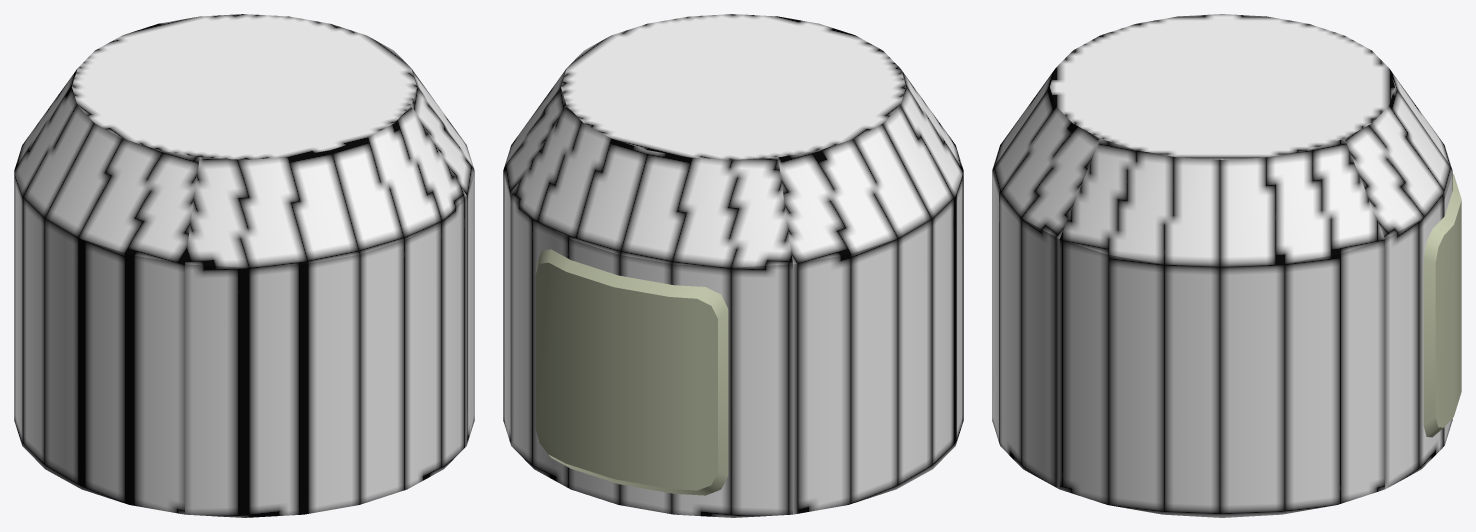
The model's file is vega_crew_s1_2_1_interior.obj.
The picture shows the model from 3 angles, left to right: view 1: azimuth 30°, elevation 25°; view 2: azimuth 150°, elevation 25°; view 3: azimuth 270°, elevation 25°; orthographic projection.
Visible parts, largest first — view 1: veag_crew_s1_2_1_interior; view 2: veag_crew_s1_2_1_interior, veag_crew_s1_2_1_interior_mask; view 3: veag_crew_s1_2_1_interior, veag_crew_s1_2_1_interior_mask.
Boxes of the visible parts, bbox=[...] form: veag_crew_s1_2_1_interior: bbox=[14, 14, 474, 517]; veag_crew_s1_2_1_interior: bbox=[503, 14, 963, 517]; veag_crew_s1_2_1_interior_mask: bbox=[535, 249, 728, 495]; veag_crew_s1_2_1_interior: bbox=[992, 14, 1452, 517]; veag_crew_s1_2_1_interior_mask: bbox=[1423, 173, 1461, 437].
Bounding box in the file's own units: 1.25 × 1 × 1.27.
Materials: 2 (1 with a texture image).
